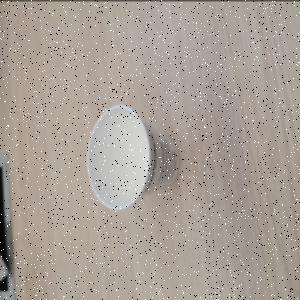Cup: (88, 104, 182, 210)
